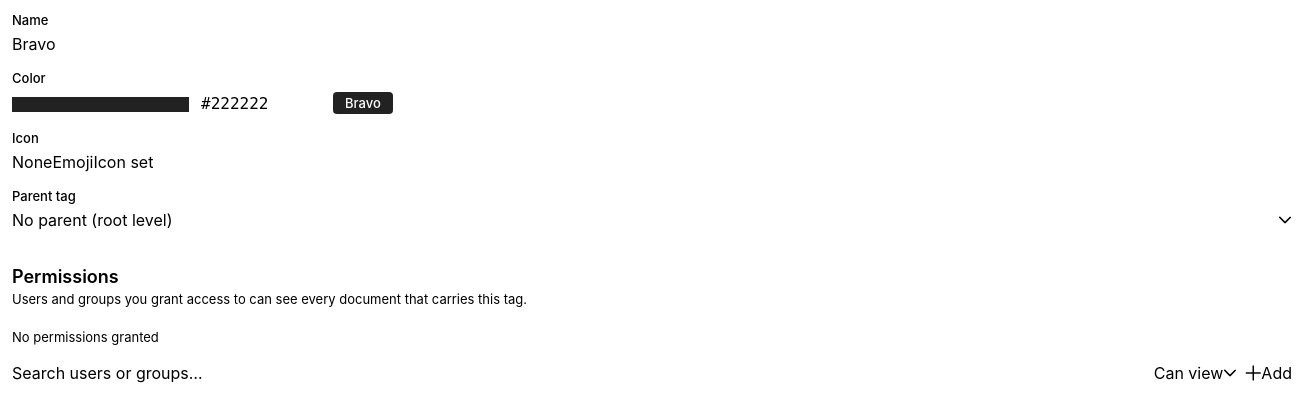
Test: TagForm — the manual hex code field (#303) › expands a #RGB shorthand when the field is left, never while it is being typed
Replace the text in the field with id "tag-color-hex" with "#f0a" at (261, 103), box [201, 94, 321, 113]
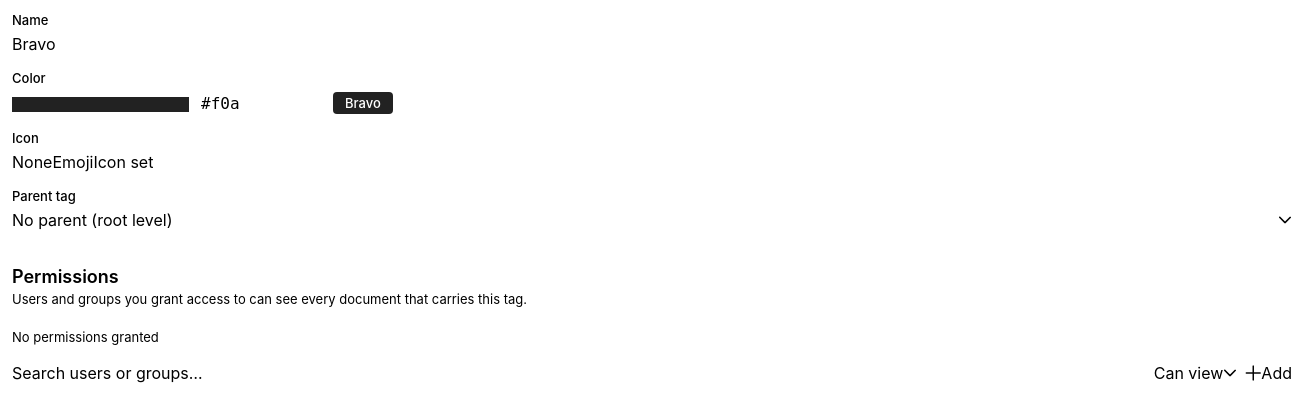
Leave the field with id "tag-color-hex", box [201, 94, 321, 113]
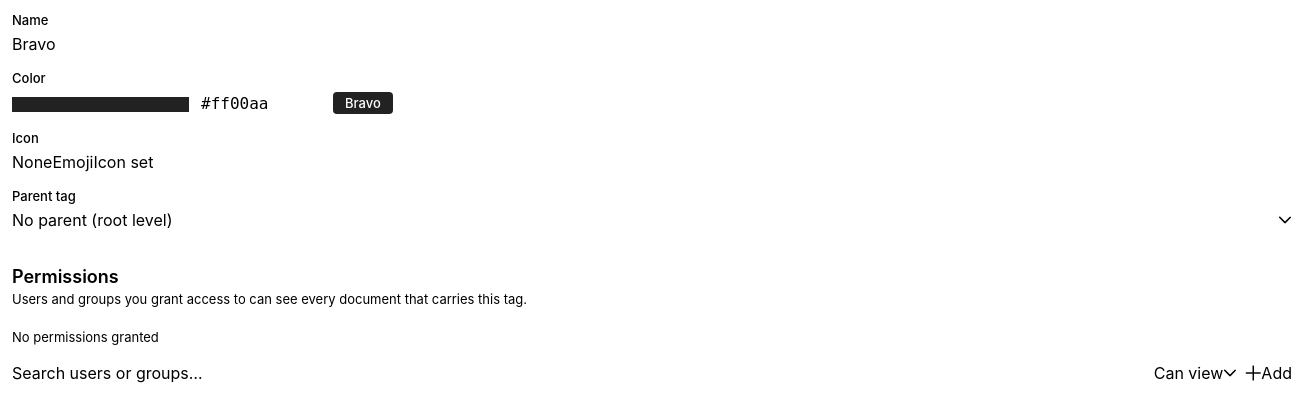
expect the field with id "tag-color-hex" holds "#ff00aa": met, box [201, 94, 321, 113]
